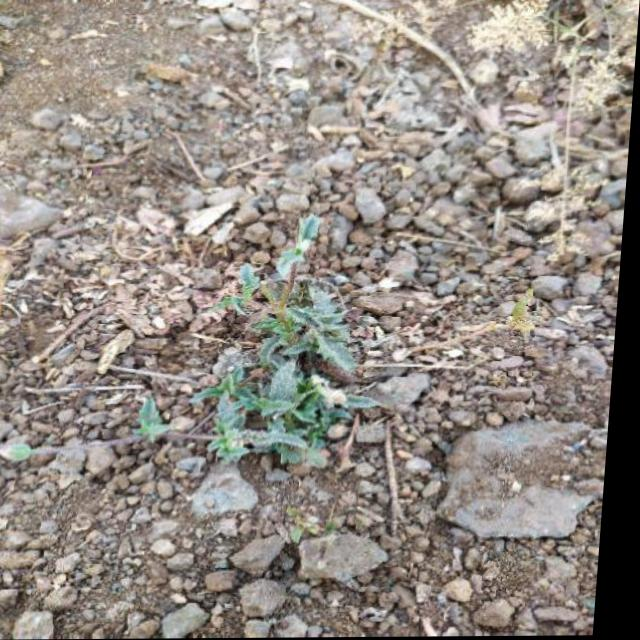weed: (127, 203, 397, 522)
